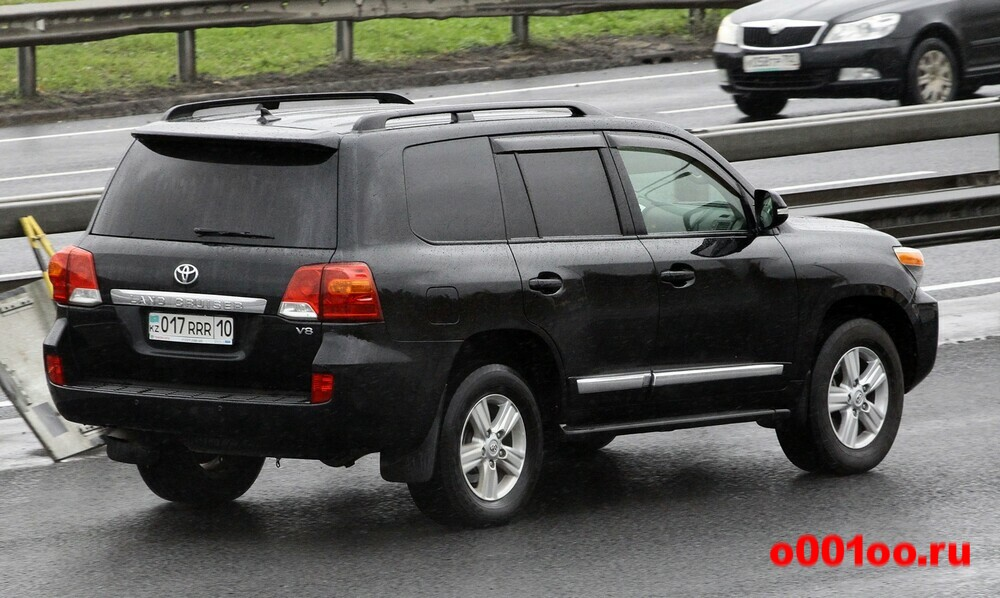license_plate: (144, 310, 234, 344)
